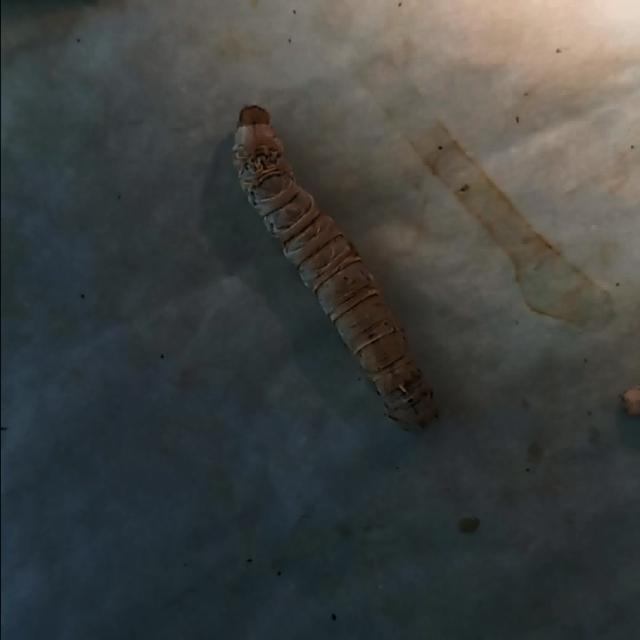Grasserie: (204, 76, 454, 443)
